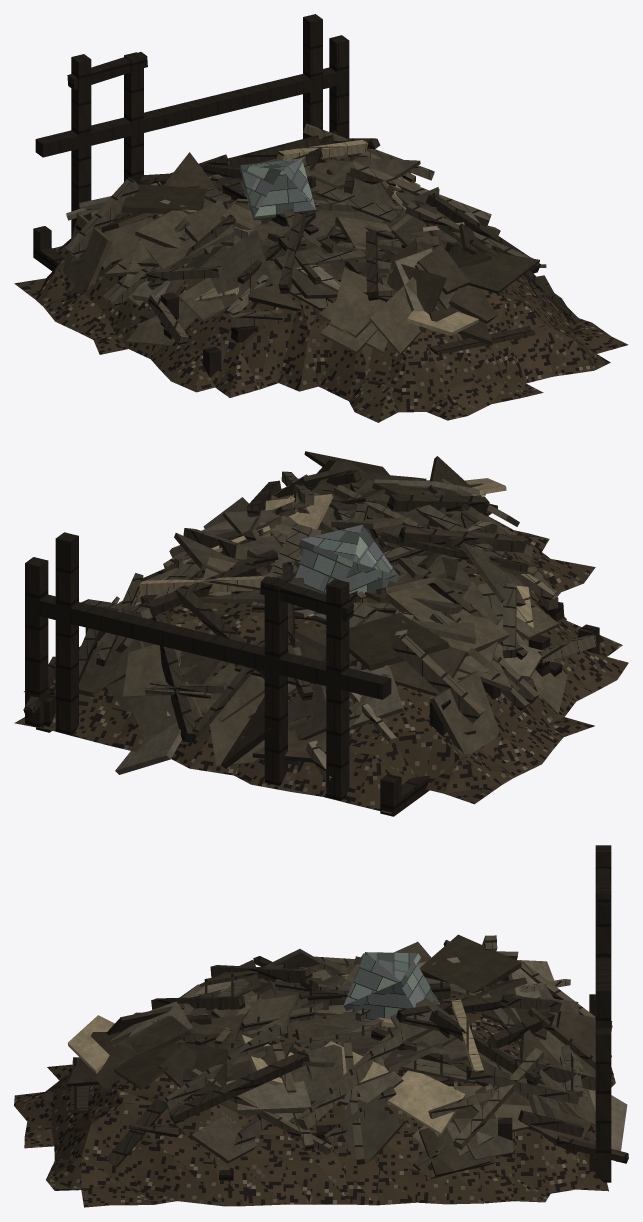
Rendered from Arabuild03b.glb.
3 views of the same model, one above another, from view 1: azimuth 30°, elevation 25°; view 2: azimuth 150°, elevation 25°; view 3: azimuth 270°, elevation 25° (orthographic). The views are drawn at different scales.
Parts seen in each view (by area): view 1: Arabuild03b_otimber; view 2: Arabuild03b_otimber; view 3: Arabuild03b_otimber.
Part boxes in pixels (box(x1,y1,x2,y2)): Arabuild03b_otimber: box(14, 14, 628, 422); Arabuild03b_otimber: box(14, 451, 628, 816); Arabuild03b_otimber: box(14, 845, 628, 1207).
Bounding box in the file's own units: 7.74 × 3.69 × 9.41.
15 materials, 15 textured.
